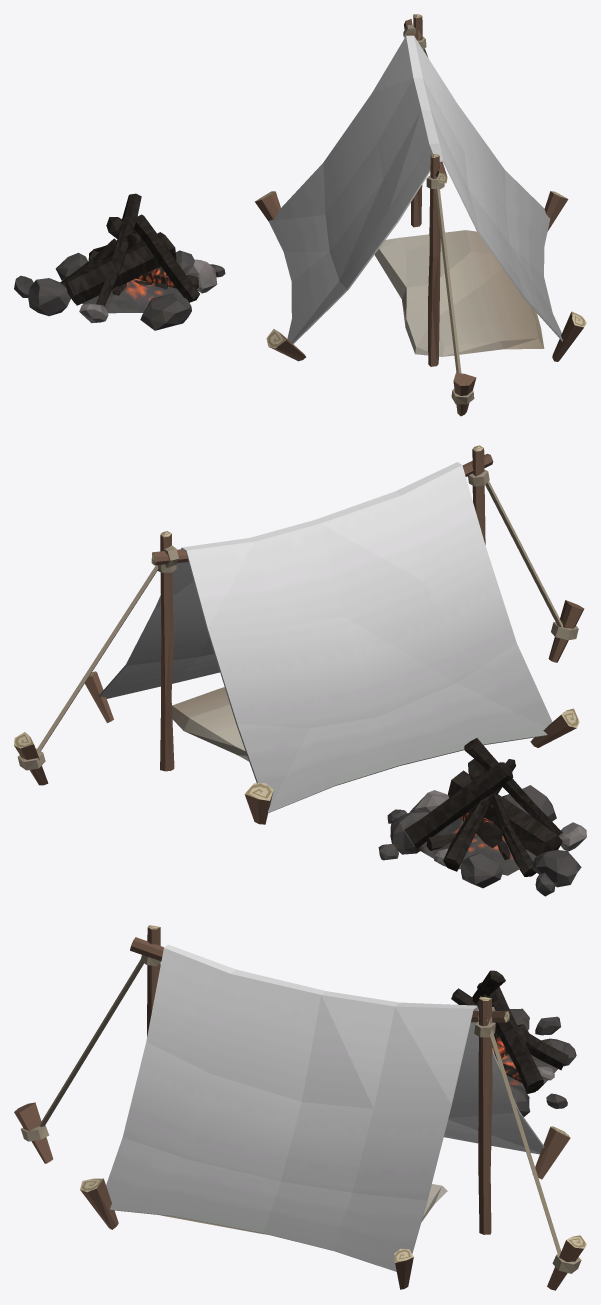
Rendered from safecamp01.fbx.
The picture shows the model from 3 angles, top to bottom: view 1: azimuth 30°, elevation 25°; view 2: azimuth 150°, elevation 25°; view 3: azimuth 270°, elevation 25°; orthographic projection. The views are drawn at different scales.
Visible parts, largest first — view 1: safecamp01; view 2: safecamp01; view 3: safecamp01.
Part boxes in pixels (x1=…): safecamp01: x1=14, y1=14, x2=586, y2=416; safecamp01: x1=14, y1=445, x2=586, y2=896; safecamp01: x1=14, y1=925, x2=586, y2=1290.
Size of the model in its own units: 2.76 by 1.2 by 2.5.
